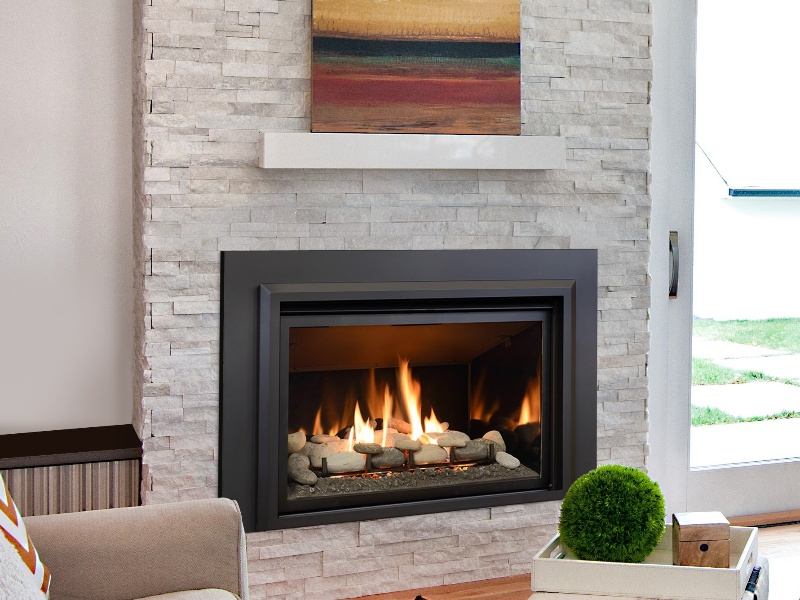fire: (312, 355, 460, 441)
